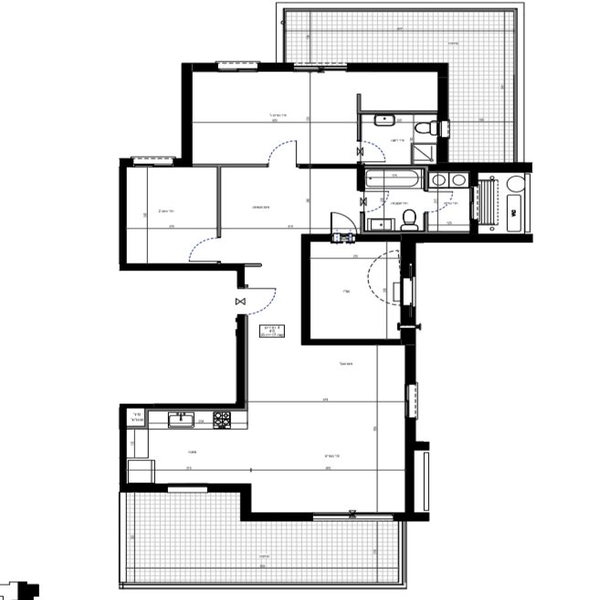door: (237, 282, 279, 320), (187, 233, 226, 264), (323, 205, 359, 238), (265, 137, 302, 168), (426, 185, 459, 216), (357, 190, 396, 213), (357, 141, 389, 168)
room: (230, 332, 437, 523), (178, 54, 449, 167), (296, 160, 537, 239), (107, 390, 258, 492), (300, 236, 418, 350), (114, 161, 228, 275)
wall: (360, 231, 534, 244), (118, 260, 248, 274), (297, 334, 406, 350), (296, 162, 431, 174), (344, 61, 451, 75), (437, 74, 452, 173), (113, 402, 247, 413), (300, 236, 314, 341), (119, 157, 132, 268), (117, 398, 133, 488), (180, 64, 193, 167), (403, 420, 416, 521), (438, 162, 535, 174), (237, 318, 249, 405), (401, 336, 420, 388), (253, 508, 313, 524), (396, 304, 423, 334), (397, 240, 416, 280), (348, 160, 375, 188), (115, 484, 167, 496), (207, 481, 251, 495), (237, 490, 254, 521), (257, 63, 294, 75)
window: (319, 507, 400, 524), (294, 60, 346, 77), (399, 384, 421, 419), (213, 54, 257, 71), (397, 276, 417, 304)
